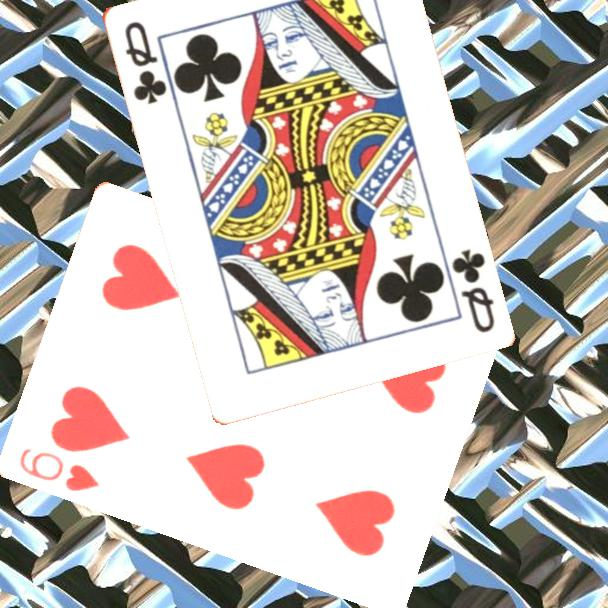c12: (447, 245, 497, 336), (120, 17, 169, 107)
h06: (16, 444, 103, 494)
